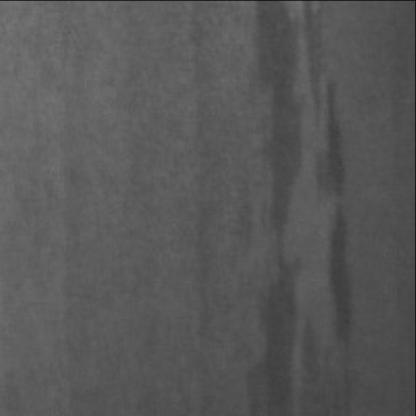inclusion: (248, 0, 362, 412)
